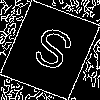S: (25, 24, 77, 81)
